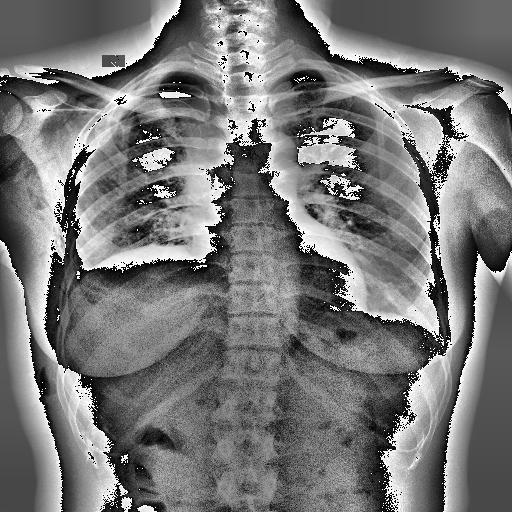10- Pleural effusion: (64, 258, 114, 316), (68, 257, 96, 299)
11- Pleural thickening: (80, 72, 158, 170), (64, 258, 114, 316), (68, 257, 96, 299)
12- Pneumothorax: (118, 68, 216, 124)
7- Lung Opacity: (72, 106, 218, 264)
9- Other lesion: (54, 86, 110, 260), (62, 88, 100, 120), (141, 238, 193, 256), (71, 90, 101, 116), (206, 168, 216, 188)
